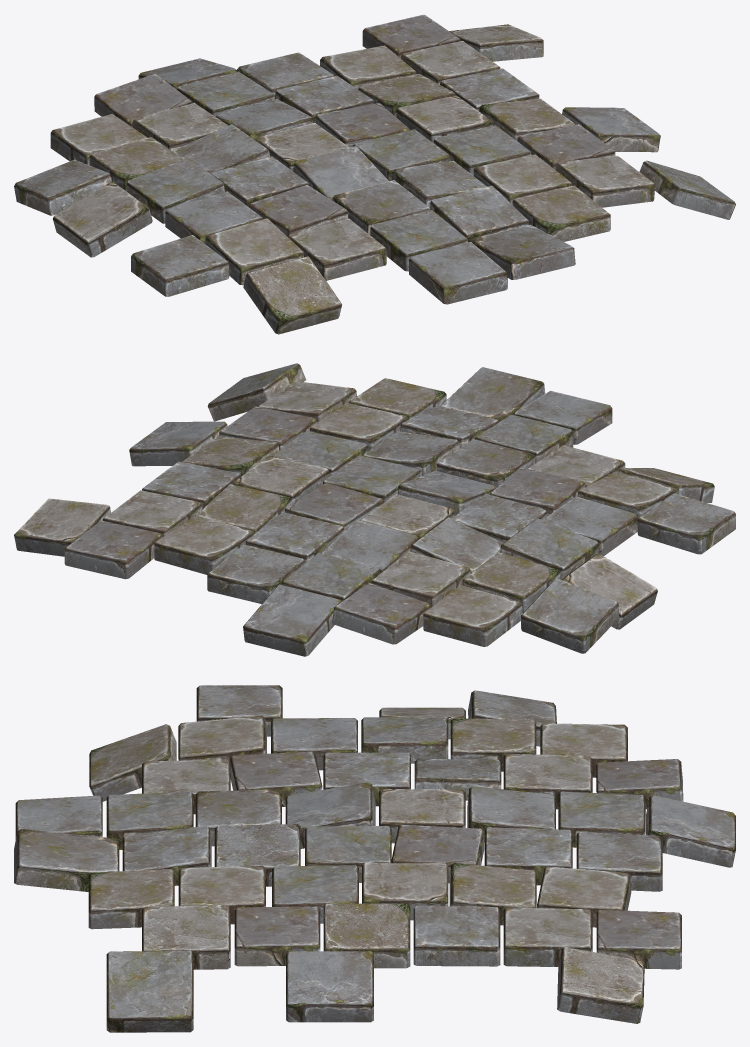
3 views of the same model, one above another, from view 1: azimuth 30°, elevation 25°; view 2: azimuth 150°, elevation 25°; view 3: azimuth 270°, elevation 25° (orthographic). The views are drawn at different scales.
Visible parts, largest first — view 1: SM_Greathall_Floor_8x8_Broken_01_LOD0; view 2: SM_Greathall_Floor_8x8_Broken_01_LOD0; view 3: SM_Greathall_Floor_8x8_Broken_01_LOD0.
Boxes of the visible parts, box(x1,y1,x2,y2) form: SM_Greathall_Floor_8x8_Broken_01_LOD0: box(14, 14, 735, 334); SM_Greathall_Floor_8x8_Broken_01_LOD0: box(14, 363, 735, 656); SM_Greathall_Floor_8x8_Broken_01_LOD0: box(14, 685, 735, 1032).
Size of the model in its own units: 7.97 by 0.8136 by 7.97.
1 material, 1 textured.
